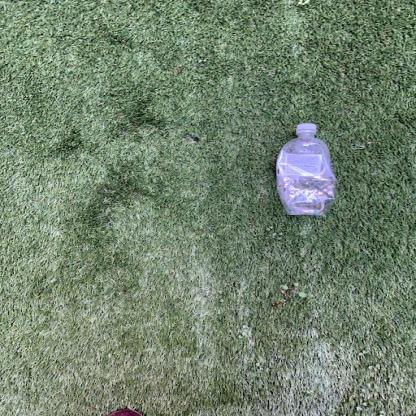trash: (276, 121, 341, 218)
